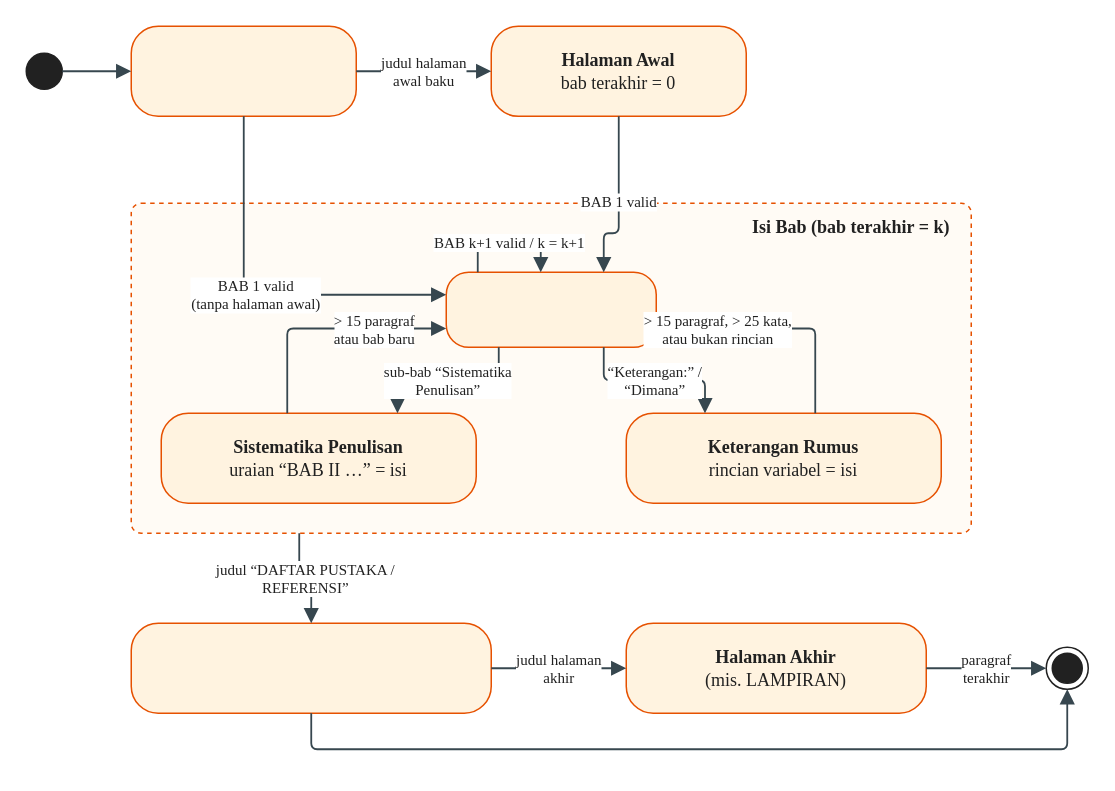
The diagram is 1115 pixels wide and 791 high, and some of its shapes have lost their labels. Here are the shapes that lost their labels. From the top down, the centre of each, then its label:
At (243,70): "Sampul label identitas".
At (550,309): "Normal".
At (310,667): "Daftar Pustaka entri = DAFTAR_PUSTAKA_ITEM".
